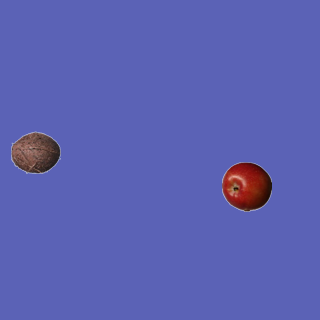Apple Braeburn: (221, 161, 271, 211)
Cocos: (10, 127, 60, 177)
